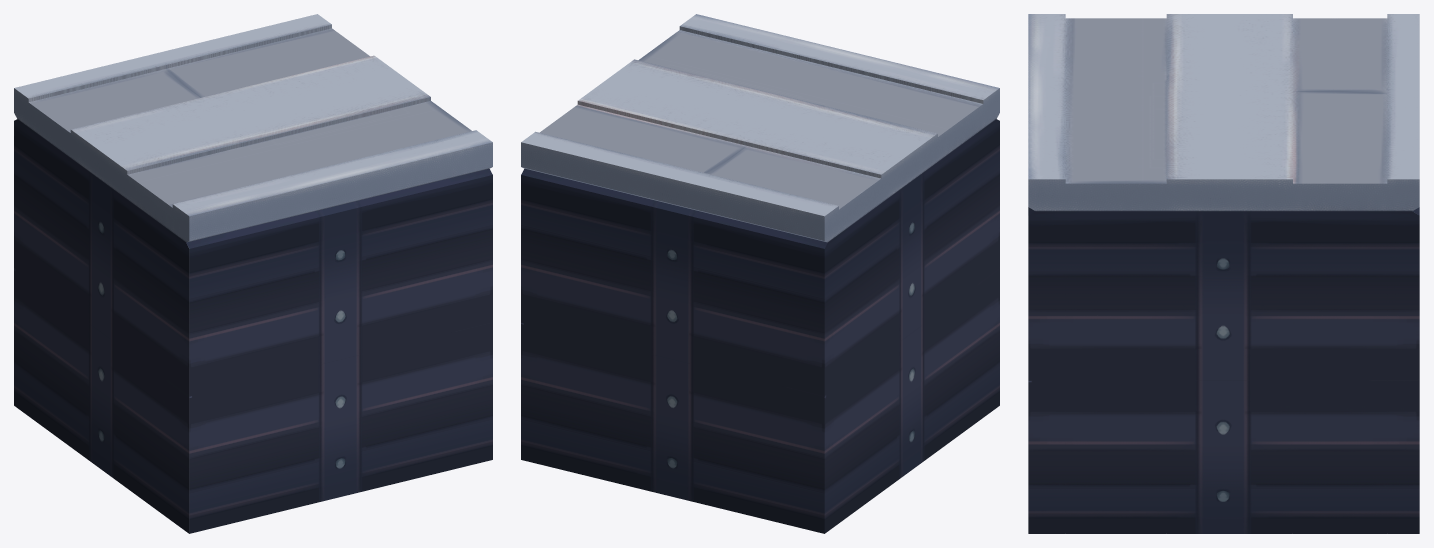
Rendered from Piso base.fbx.
The picture shows the model from 3 angles, left to right: view 1: azimuth 30°, elevation 25°; view 2: azimuth 150°, elevation 25°; view 3: azimuth 270°, elevation 25°; orthographic projection. The views are drawn at different scales.
Visible parts, largest first — view 1: Piso base; view 2: Piso base; view 3: Piso base.
Part boxes in pixels (x1,y1,x2,y2): Piso base: (14,14,492,533); Piso base: (521,14,999,533); Piso base: (1028,14,1419,533).
Bounding box in the file's own units: 200 × 200 × 200.
